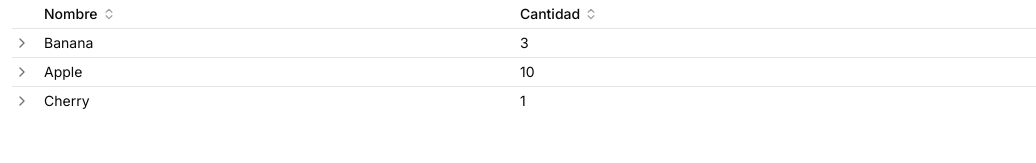
Test: DataTable › expands a row to show its detail content, and collapses it back
The image size is (1036, 163).
Expected: the text "Detalle de Banana" is not shown
Click the button named "expandir" next to "Banana" at x=22, y=43, box [12,33,32,53]
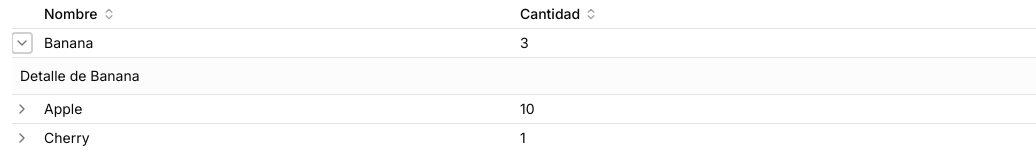
Expected: the text "Detalle de Banana" is shown, [20,67,140,84]
Click the button named "contraer" at x=22, y=43, box [12,33,32,53]
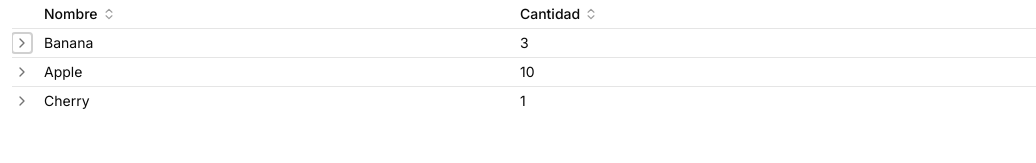
Expected: the text "Detalle de Banana" is gone
